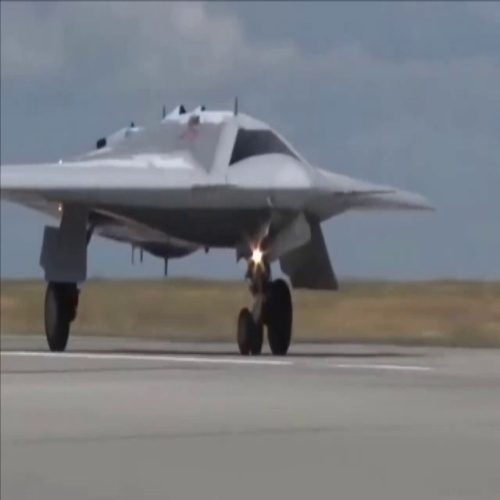uav969: (1, 102, 438, 359)
